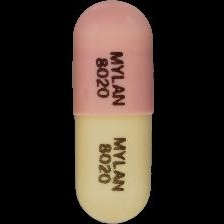68151-1326: (0, 0, 224, 224)
